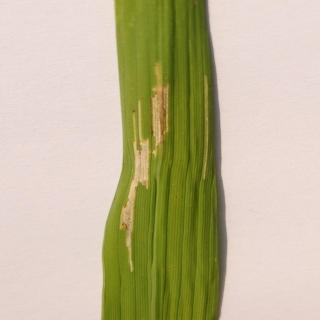Hawar-Daun: (112, 62, 182, 264)
